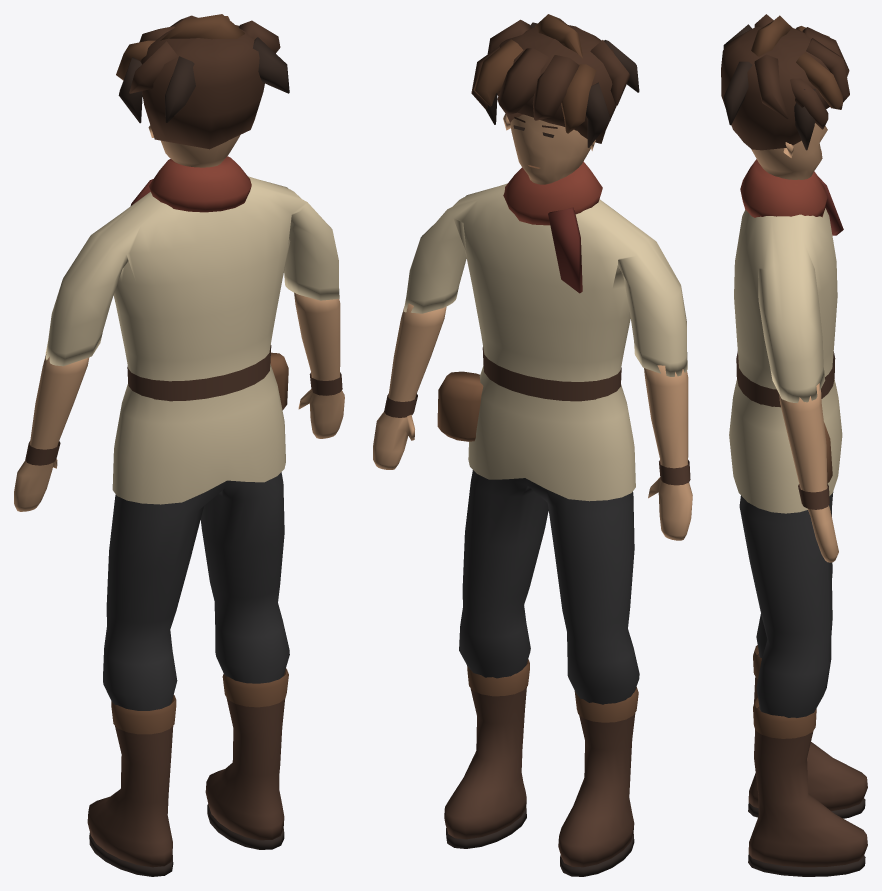
The model's file is adventurer_blockout.glb.
3 views of the same model, side by side, from view 1: azimuth 30°, elevation 25°; view 2: azimuth 150°, elevation 25°; view 3: azimuth 270°, elevation 25° (orthographic). The views are drawn at different scales.
Parts seen in each view (by area): view 1: Tunic_shoulders_sleeves_CONTINUOUS, Trousers_seat_crotch_legs_CONTINUOUS, Hair_main_mass, Boot_main_-1, Boot_main_1, Forearm_hand_-1, Forearm_hand_1, Scarf_wrap_BLOCKOUT, Belt_BLOCKOUT, Boot_cuff_blockout_1, Boot_cuff_blockout_-1, Hair_crown_sweep (+8 smaller); view 2: Tunic_shoulders_sleeves_CONTINUOUS, Trousers_seat_crotch_legs_CONTINUOUS, Boot_main_1, Boot_main_-1, Forearm_hand_-1, Forearm_hand_1, HeadNeck_continuous, Scarf_wrap_BLOCKOUT, Hair_main_mass, Belt_BLOCKOUT, Pouch_BLOCKOUT, Scarf_tail_BLOCKOUT (+11 smaller); view 3: Tunic_shoulders_sleeves_CONTINUOUS, Trousers_seat_crotch_legs_CONTINUOUS, Boot_main_1, Hair_main_mass, Forearm_hand_1, Scarf_wrap_BLOCKOUT, Boot_main_-1, HeadNeck_continuous, Boot_cuff_blockout_1, Hair_side_sweep_1, Boot_sole_1, Hair_fringe_3 (+10 smaller).
Boxes of the visible parts, x1,y1,x2,y2 form: Tunic_shoulders_sleeves_CONTINUOUS: [45, 176, 339, 504]; Trousers_seat_crotch_legs_CONTINUOUS: [103, 472, 289, 710]; Hair_main_mass: [140, 25, 264, 149]; Boot_main_-1: [87, 726, 173, 867]; Boot_main_1: [205, 697, 284, 840]; Forearm_hand_-1: [14, 352, 89, 511]; Forearm_hand_1: [294, 292, 344, 438]; Scarf_wrap_BLOCKOUT: [149, 156, 251, 212]; Belt_BLOCKOUT: [127, 345, 271, 401]; Boot_cuff_blockout_1: [222, 668, 288, 707]; Boot_cuff_blockout_-1: [111, 695, 176, 734]; Hair_crown_sweep: [160, 14, 244, 40]; Tunic_shoulders_sleeves_CONTINUOUS: [403, 183, 687, 501]; Trousers_seat_crotch_legs_CONTINUOUS: [459, 470, 639, 704]; Boot_main_1: [444, 687, 526, 839]; Boot_main_-1: [558, 713, 635, 867]; Forearm_hand_-1: [644, 365, 692, 540]; Forearm_hand_1: [373, 303, 446, 469]; HeadNeck_continuous: [510, 114, 590, 184]; Scarf_wrap_BLOCKOUT: [503, 161, 602, 225]; Hair_main_mass: [497, 25, 616, 143]; Belt_BLOCKOUT: [482, 347, 621, 401]; Pouch_BLOCKOUT: [437, 371, 483, 441]; Scarf_tail_BLOCKOUT: [548, 207, 582, 293]; Tunic_shoulders_sleeves_CONTINUOUS: [729, 208, 842, 513]; Trousers_seat_crotch_legs_CONTINUOUS: [739, 492, 833, 717]; Boot_main_1: [748, 706, 867, 867]; Hair_main_mass: [721, 26, 829, 150]; Forearm_hand_1: [779, 383, 838, 562]; Scarf_wrap_BLOCKOUT: [740, 159, 827, 217]; Boot_main_-1: [748, 654, 867, 811]; HeadNeck_continuous: [751, 123, 827, 179]; Boot_cuff_blockout_1: [753, 697, 816, 738]; Hair_side_sweep_1: [754, 54, 788, 118]; Boot_sole_1: [748, 854, 865, 876]; Hair_fringe_3: [796, 52, 842, 109].
Bounding box in the file's own units: 0.762 × 1.86 × 0.3033.
